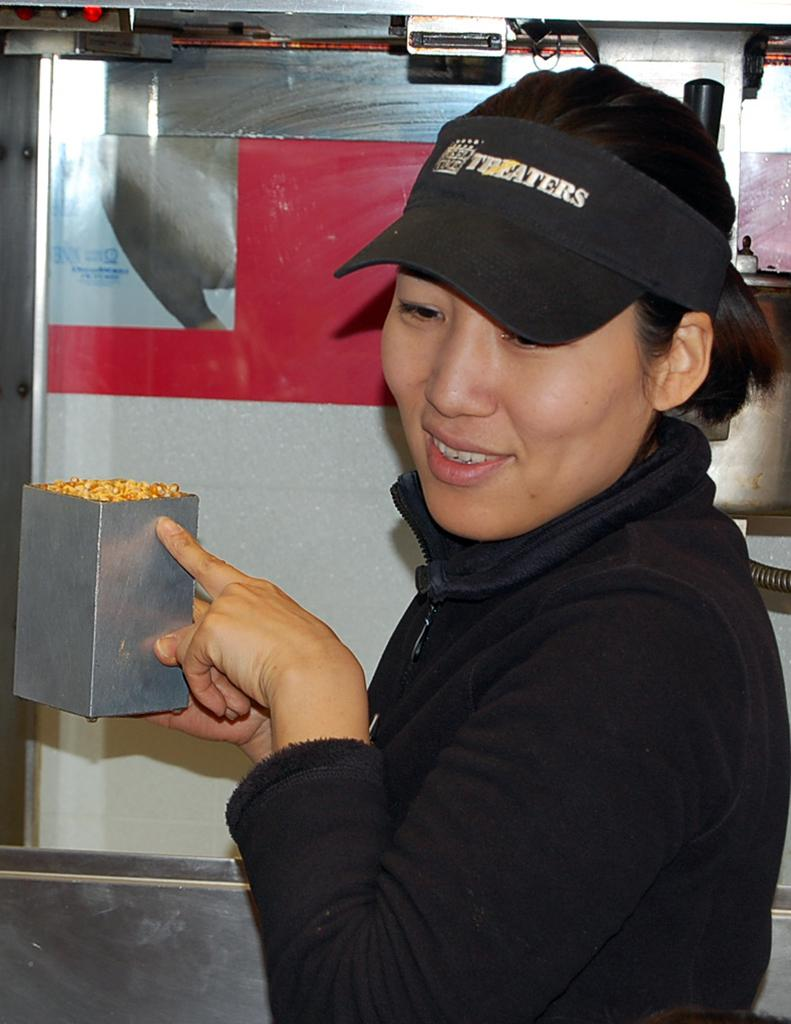Hat: (336, 58, 736, 350)
